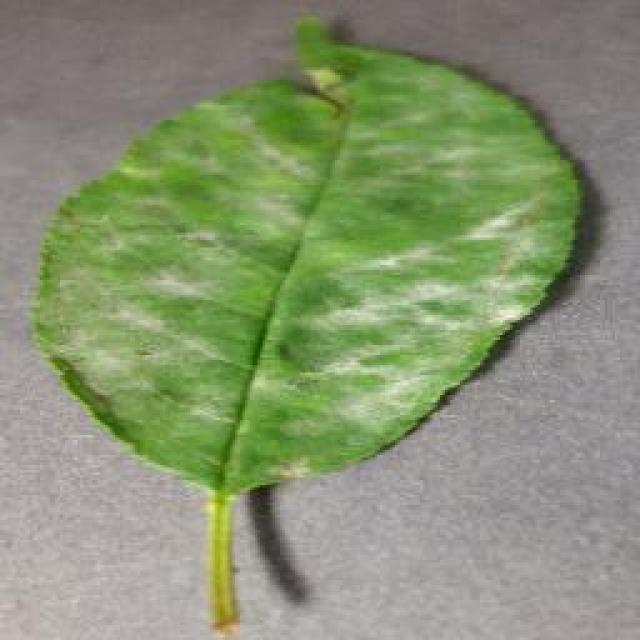Cherry___Powdery_mildew: (12, 2, 598, 638)
